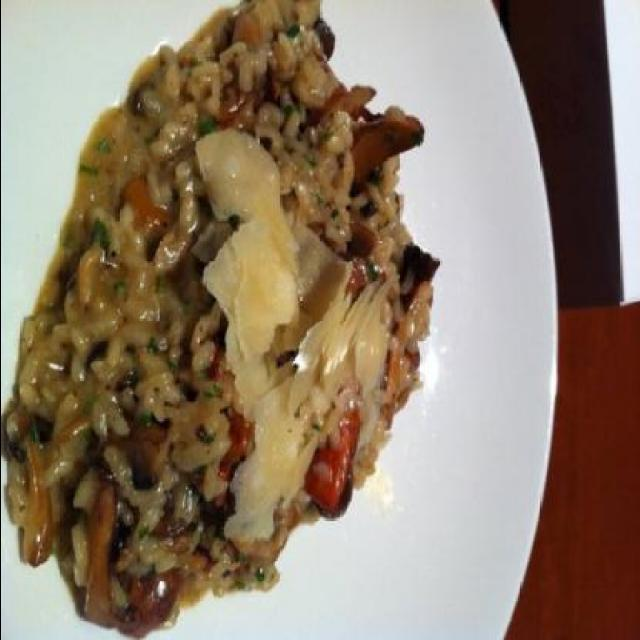Risotto: (28, 24, 426, 636)
